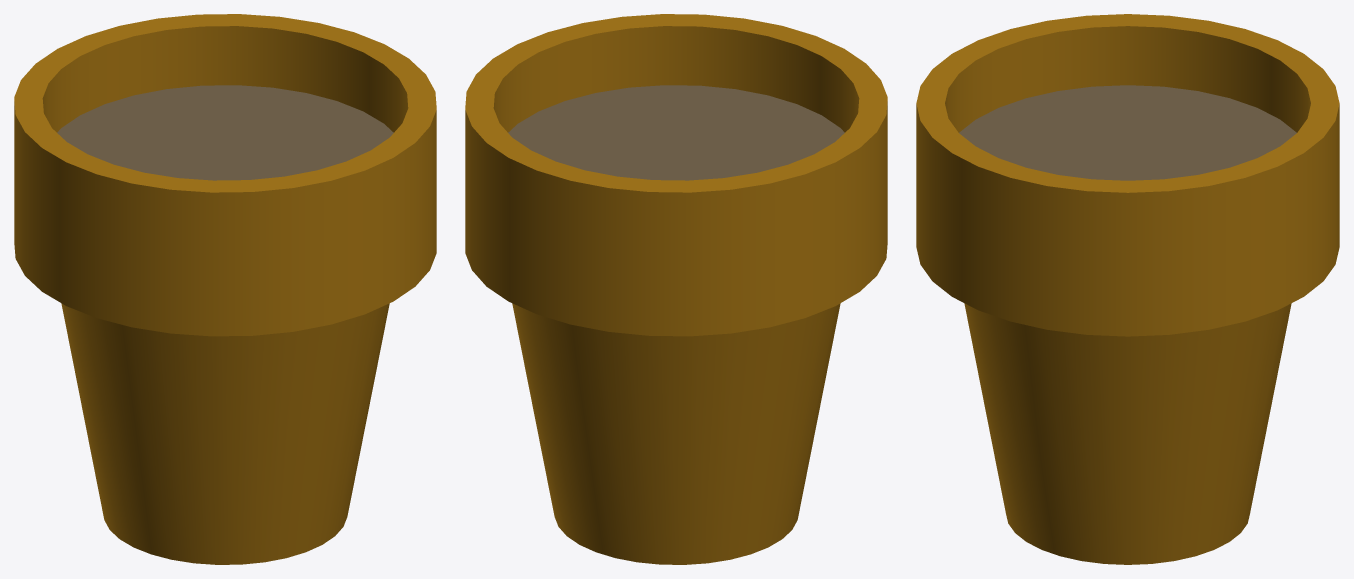
The model's file is NewKruka.fbx.
3 views of the same model, side by side, from view 1: azimuth 30°, elevation 25°; view 2: azimuth 150°, elevation 25°; view 3: azimuth 270°, elevation 25° (orthographic).
Visible parts, largest first — view 1: Cylinder.001, Cylinder; view 2: Cylinder.001, Cylinder; view 3: Cylinder.001, Cylinder.
Boxes of the visible parts, box(x1,y1,x2,y2) form: Cylinder.001: box(14, 14, 436, 564); Cylinder: box(57, 85, 393, 180); Cylinder.001: box(465, 14, 887, 564); Cylinder: box(508, 85, 844, 180); Cylinder.001: box(916, 14, 1339, 564); Cylinder: box(959, 85, 1296, 180).
Bounding box in the file's own units: 495 × 529 × 495.
